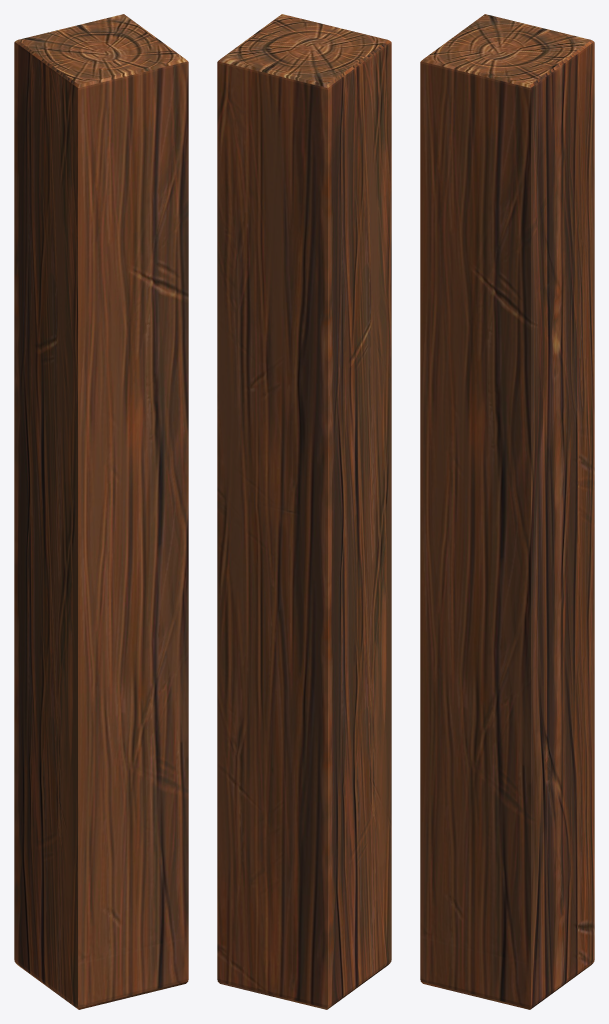
File: log.fbx
The picture shows the model from 3 angles, left to right: view 1: azimuth 30°, elevation 25°; view 2: azimuth 150°, elevation 25°; view 3: azimuth 330°, elevation 25°; orthographic projection.
Visible parts, largest first — view 1: Cube.001; view 2: Cube.001; view 3: Cube.001.
Part boxes in pixels (<box>): Cube.001: <box>14,14,188,1009</box>; Cube.001: <box>217,14,391,1009</box>; Cube.001: <box>420,14,594,1009</box>.
Size of the model in its own units: 25 by 200 by 25.
